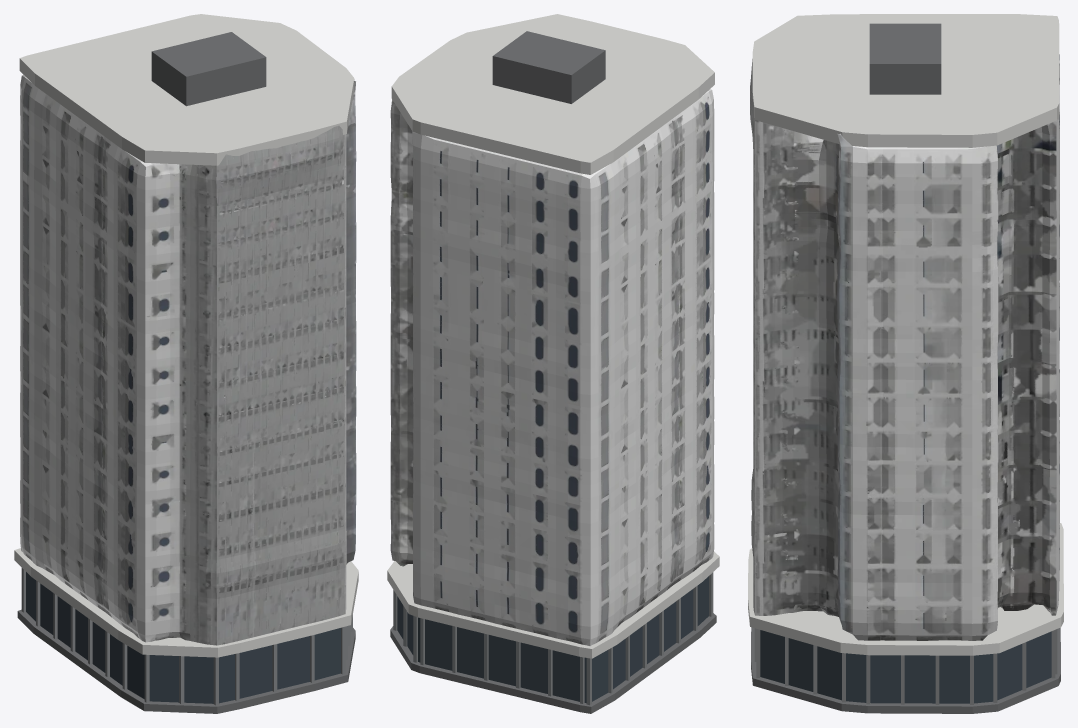
Rendered from midwhite2.glb.
3 renders of one model, left to right at view 1: azimuth 30°, elevation 25°; view 2: azimuth 150°, elevation 25°; view 3: azimuth 270°, elevation 25°, orthographic. The views are drawn at different scales.
Parts seen in each view (by area): view 1: Body; view 2: Body; view 3: Body.
Part boxes in pixels (bbox=[...]): Body: bbox=[14, 14, 358, 713]; Body: bbox=[387, 14, 719, 713]; Body: bbox=[748, 14, 1063, 713].
Bounding box in the file's own units: 19.78 × 45 × 21.16.
Materials: 5 (1 with a texture image).
